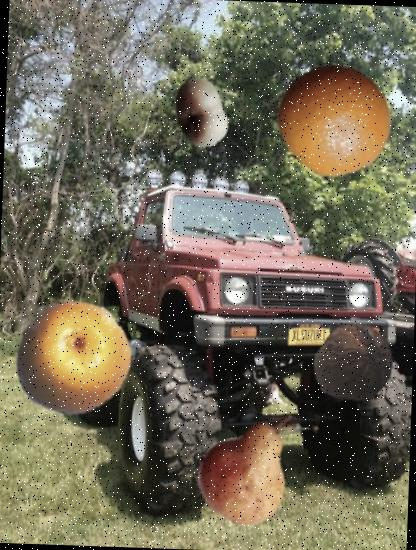Kumquats: (12, 298, 134, 420)
Orange: (276, 62, 394, 180)
Peach: (162, 76, 236, 150)
Pear: (182, 402, 308, 528)
Walnut: (310, 320, 398, 408)
